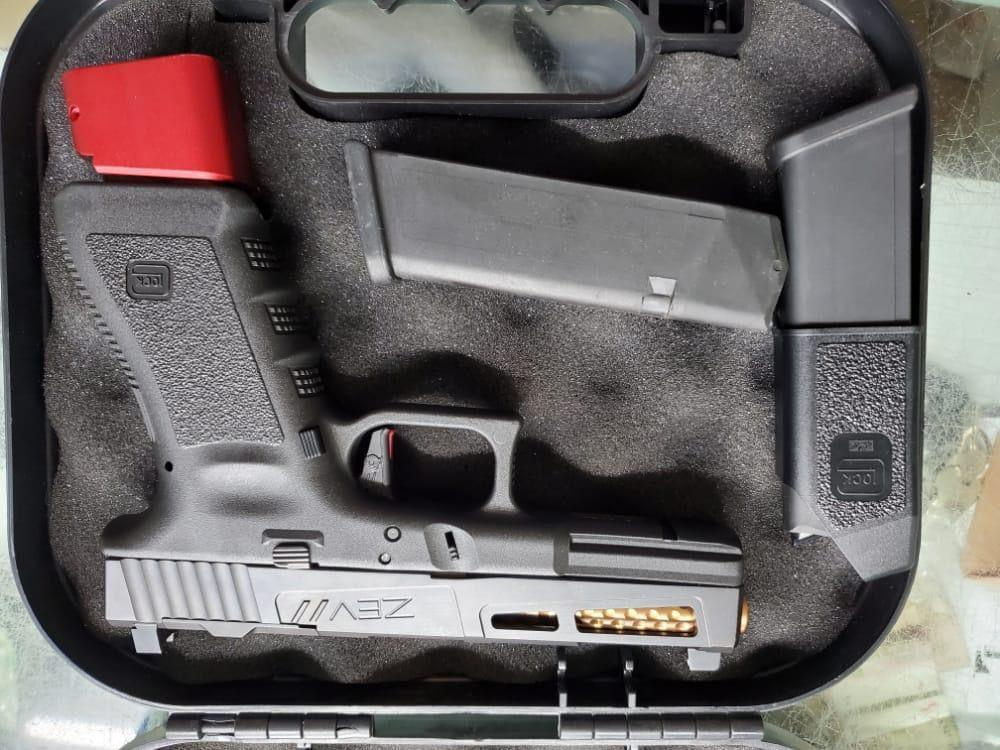weapon: (52, 182, 750, 671)
